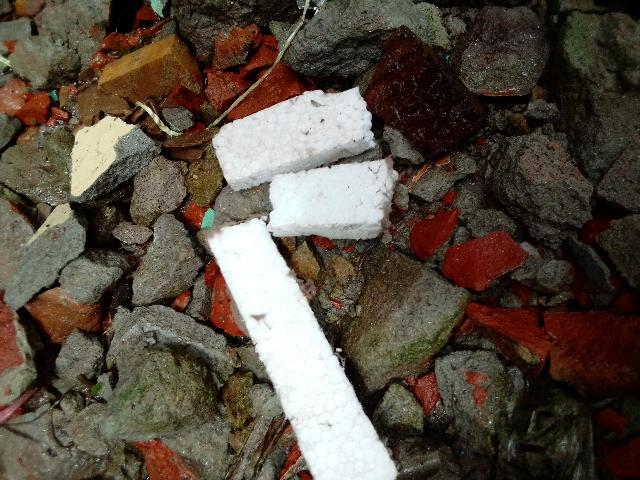cocksheet: (199, 71, 467, 480)
